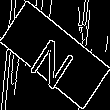N_NE: (27, 22, 83, 88)
